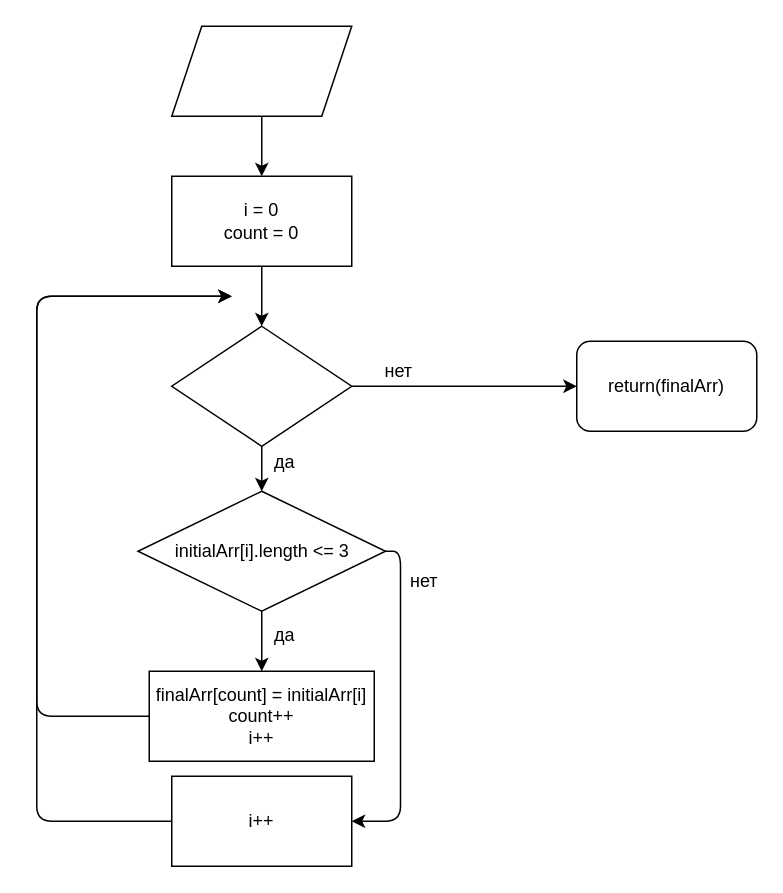
Some shapes in this 783 by 893 pixel diagram are drawn without their labels. Here are the shapes that lost their labels. From the top down, the centre of each, then its label:
the point at 261,70: initialArr finalArr
the point at 261,385: i < initialArr. length
